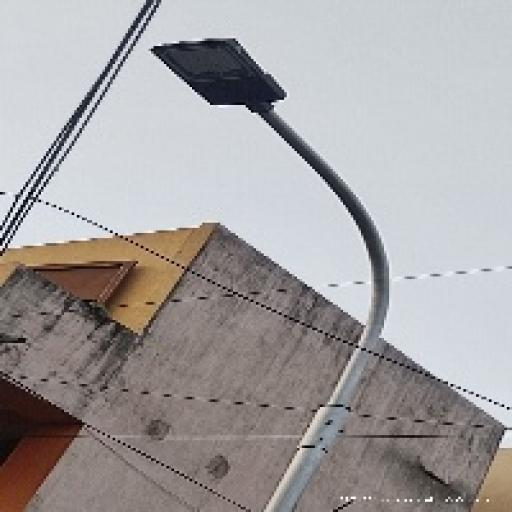Not Working: (136, 27, 308, 132)
